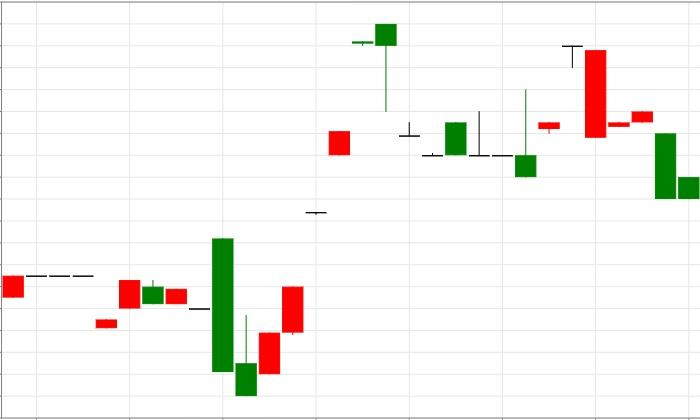hanging_man_fall: (259, 23, 396, 374)
inverse_hammer_rise: (119, 238, 257, 396)
